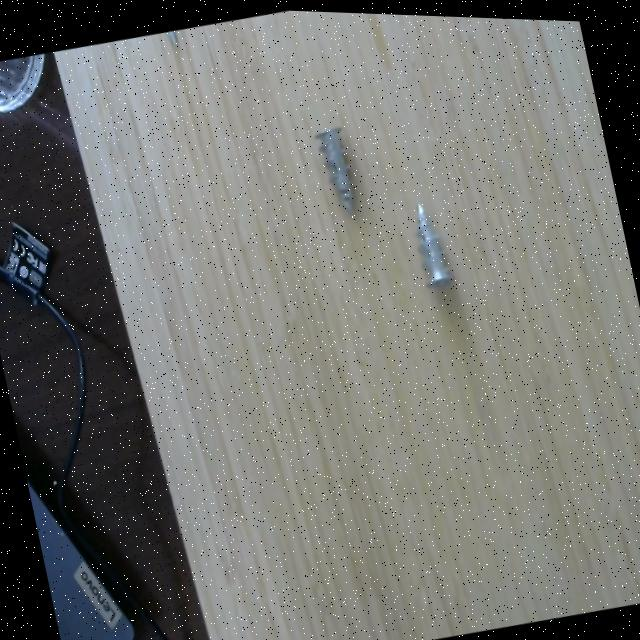Short screw: (396, 187, 463, 301), (308, 112, 369, 223)
